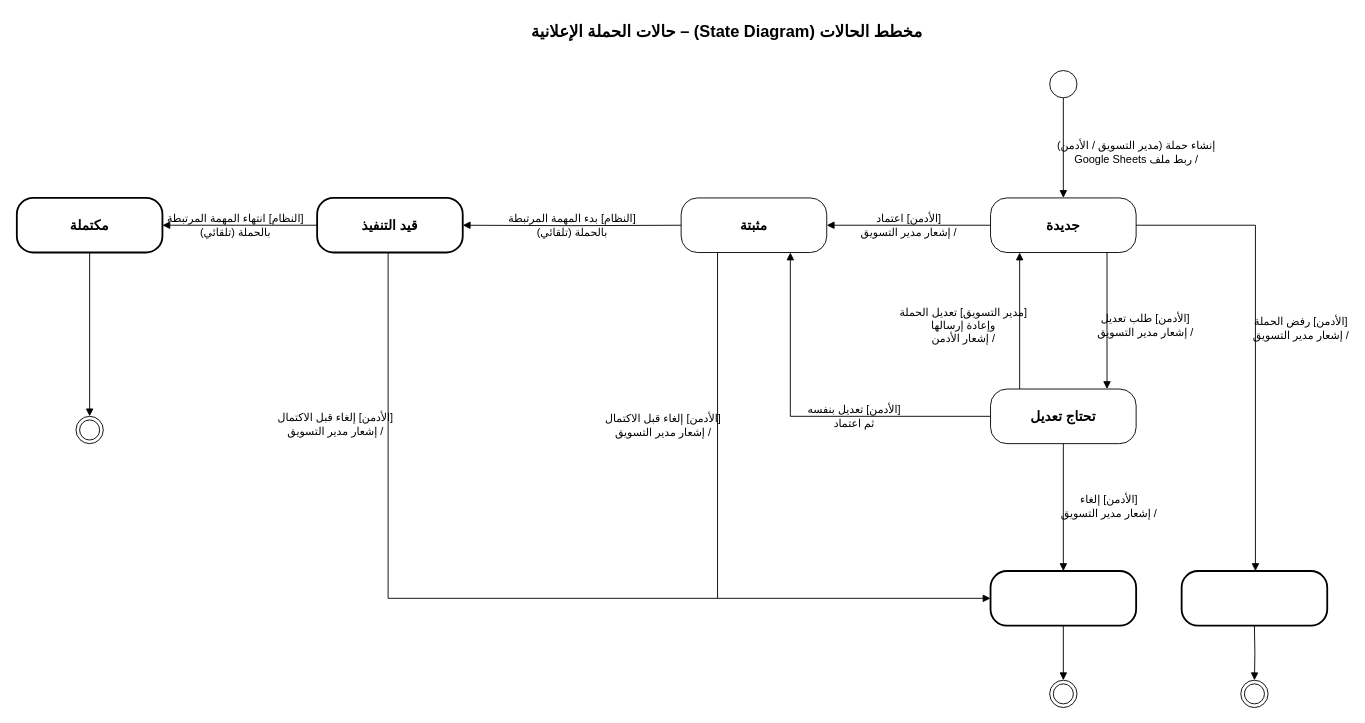
This 1365x723 diagram has some shape labels left out. The shapes that lost their labels are listed below. From the top down, each one's centre as x and y in pixels, then its label:
At (1063,598): "ملغاة".
At (1254,598): "مرفوضة".
